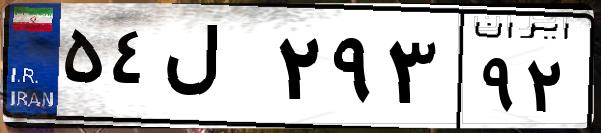2: (270, 28, 330, 110), (525, 38, 570, 115)
3: (385, 28, 445, 110)
4: (110, 28, 158, 98)
5: (57, 26, 110, 100)
9: (330, 28, 385, 110), (475, 38, 525, 113)
ل: (158, 20, 270, 120)
